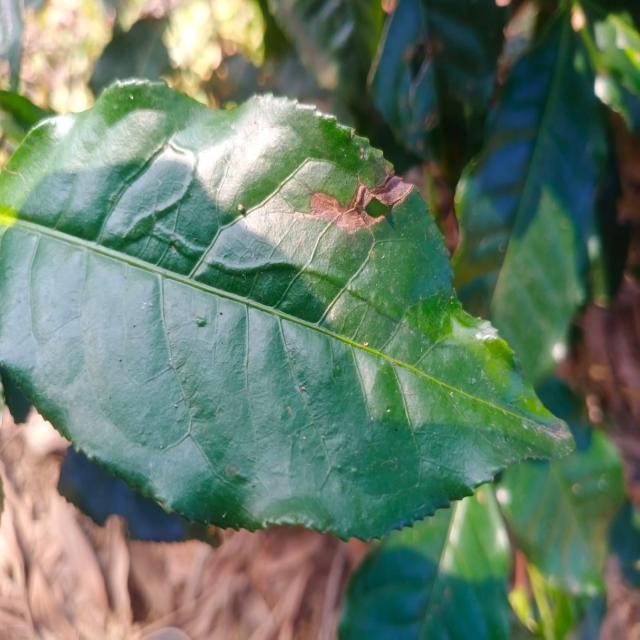Category D(7+ days, Not for Tea): (5, 67, 581, 561)
